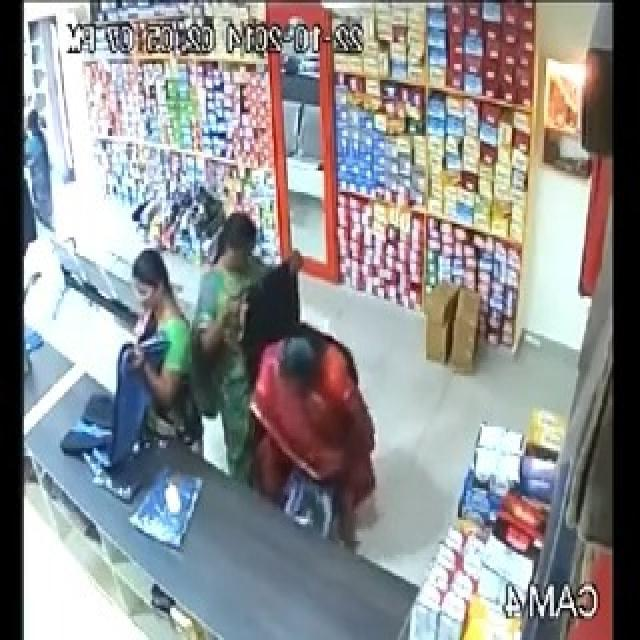Shoplifting: (244, 332, 385, 541)
